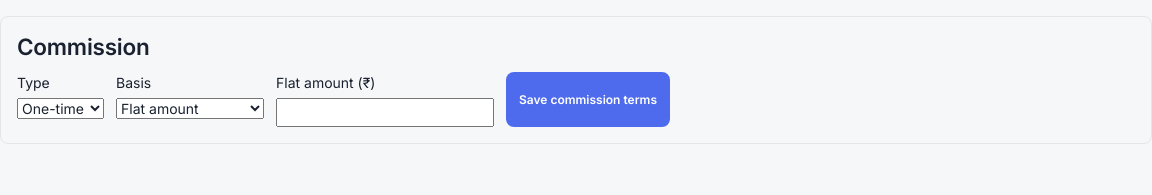
CommissionPanel › surfaces an action error inline and does not refresh
The width and height of the screenshot is (1152, 195).
In the number field labelled "Flat amount (₹)": [385, 113] box [276,98,494,127], type "2500"
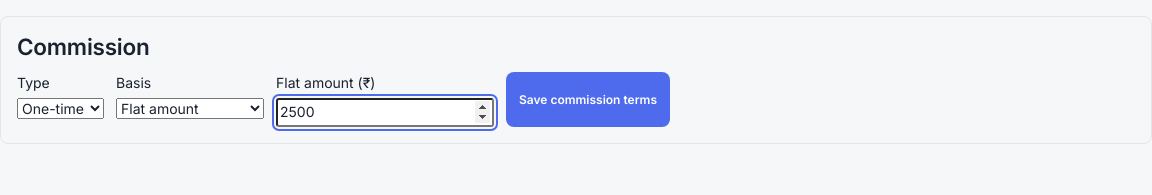
Click the button "Save commission terms": [588, 99] box [506,72,670,127]
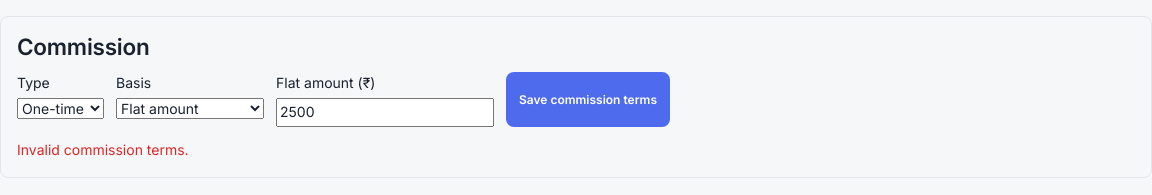
Result: the message shows "Invalid commission terms" at [17,141,189,158]
